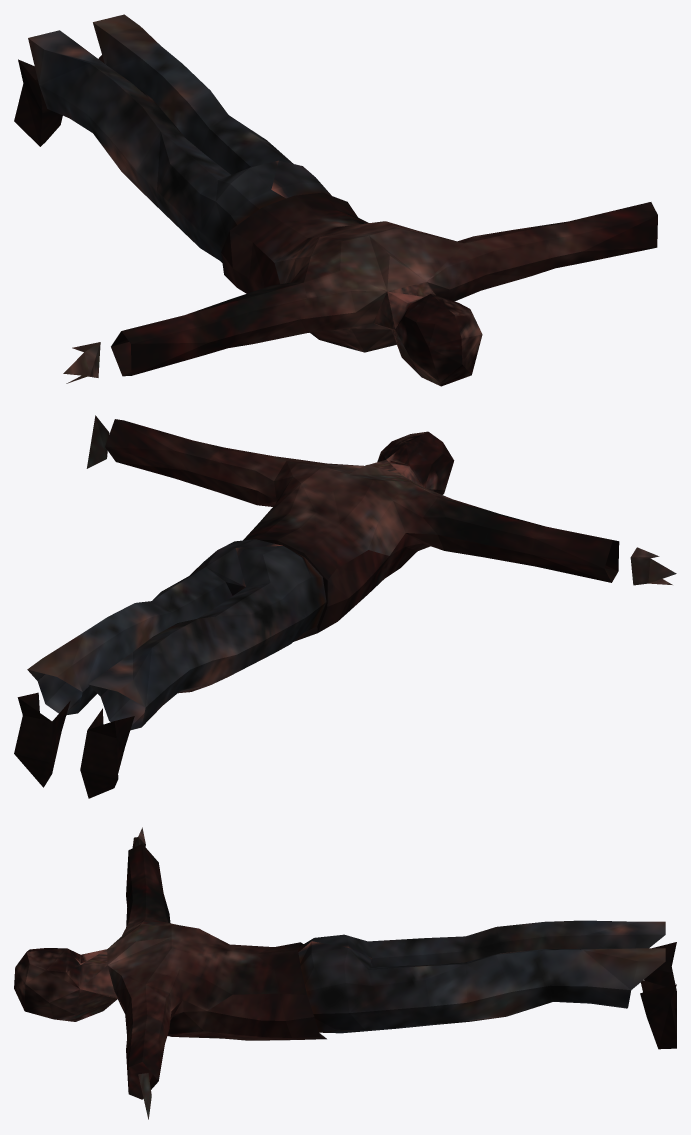
File: tomdrinman5_3kslimedlow_wtf.obj
3 views of the same model, one above another, from view 1: azimuth 30°, elevation 25°; view 2: azimuth 150°, elevation 25°; view 3: azimuth 270°, elevation 25° (orthographic). The views are drawn at different scales.
Visible parts, largest first — view 1: group1; view 2: group1; view 3: group1.
Boxes of the visible parts, x1,y1,x2,y2 form: group1: (14, 14, 657, 386); group1: (14, 415, 676, 798); group1: (14, 827, 676, 1119).
Bounding box in the file's own units: 596 × 113 × 655.
